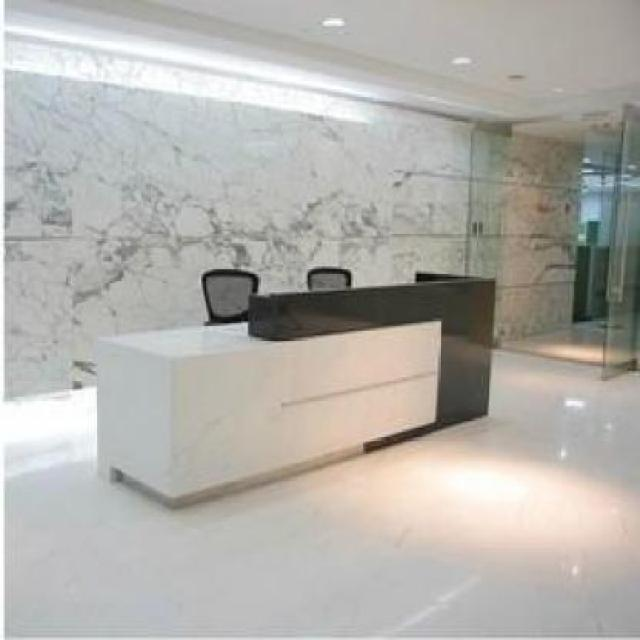frontdesk: (76, 267, 502, 508)
